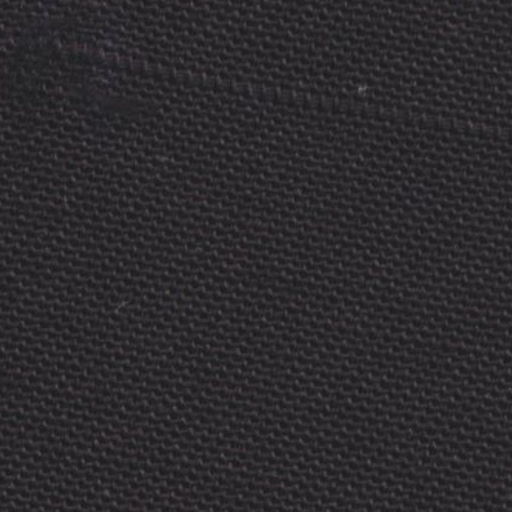DaiSha: (37, 22, 498, 146)
